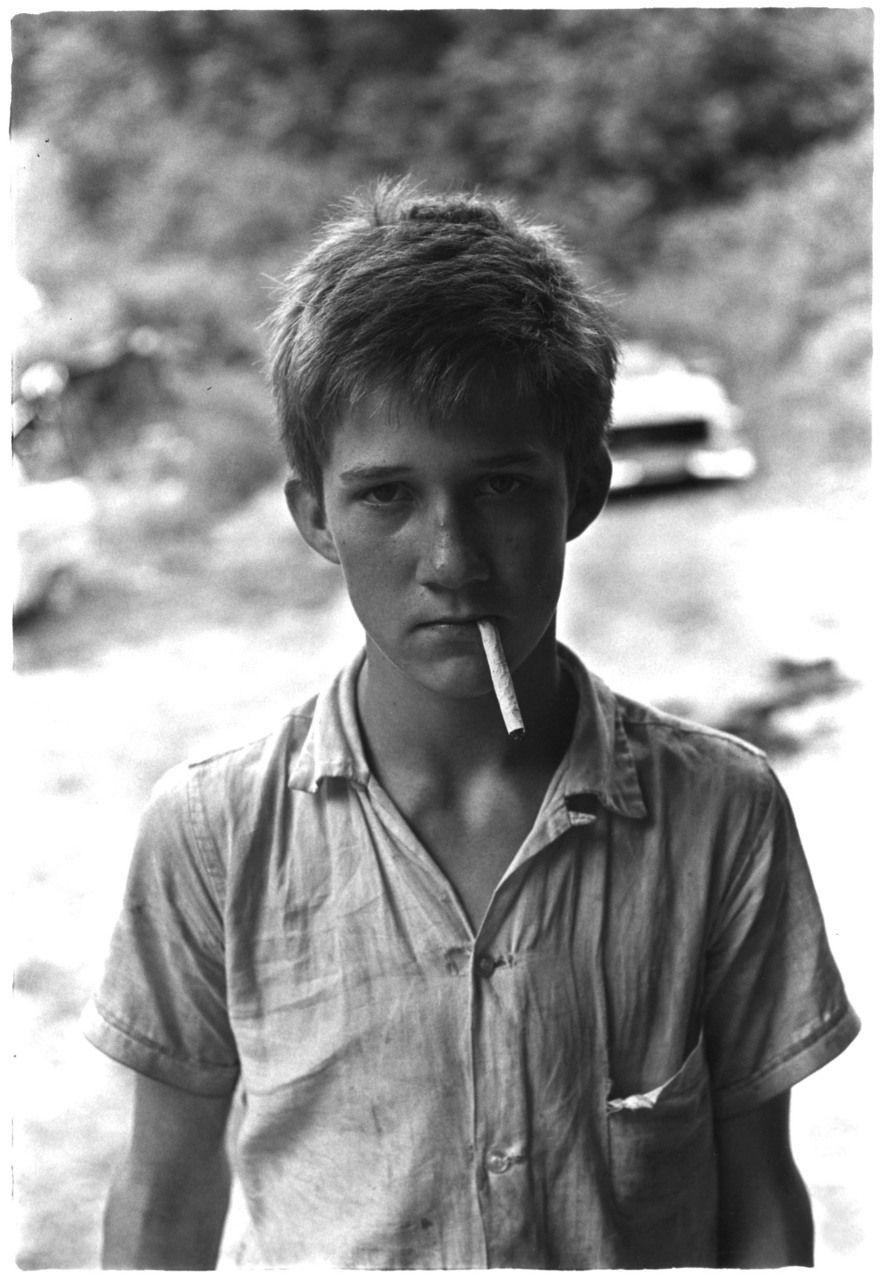cigarette: (476, 616, 527, 740)
